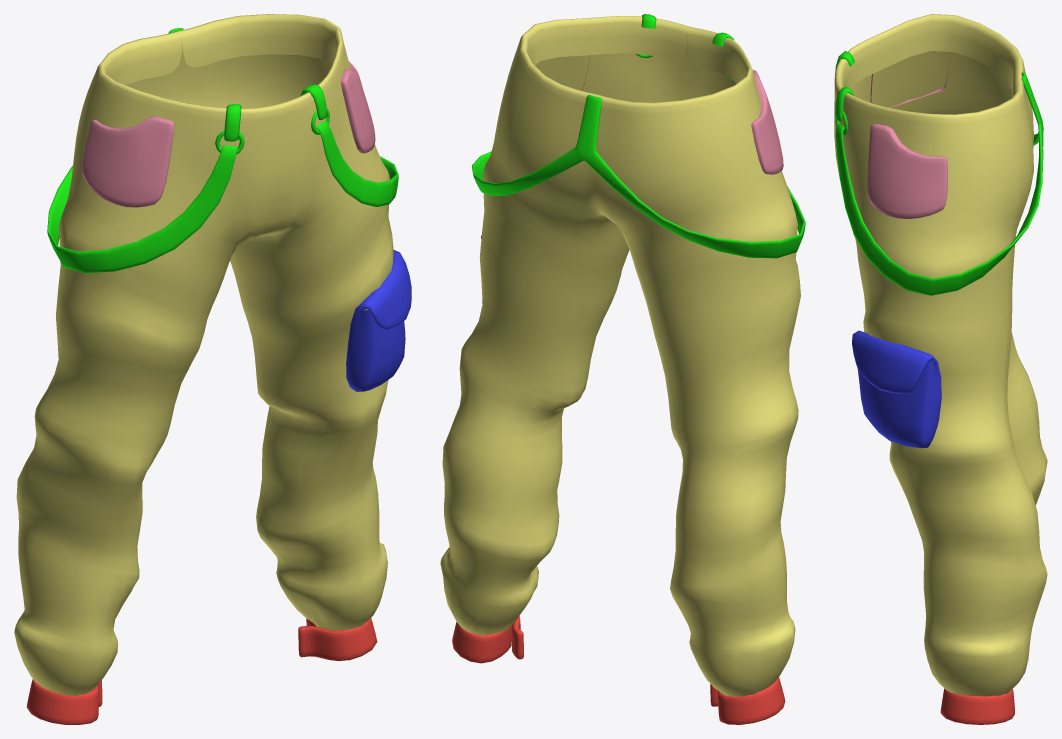
Rendered from Male_Pants.glb.
The picture shows the model from 3 angles, left to right: view 1: azimuth 30°, elevation 25°; view 2: azimuth 150°, elevation 25°; view 3: azimuth 270°, elevation 25°; orthographic projection. The views are drawn at different scales.
Parts seen in each view (by area): view 1: Male_Pants; view 2: Male_Pants; view 3: Male_Pants.
Boxes of the visible parts, x1=… form: Male_Pants: x1=14, y1=14, x2=411, y2=724; Male_Pants: x1=440, y1=14, x2=805, y2=724; Male_Pants: x1=834, y1=14, x2=1047, y2=724.
Size of the model in its own units: 3.95 by 6.7 by 2.19.
